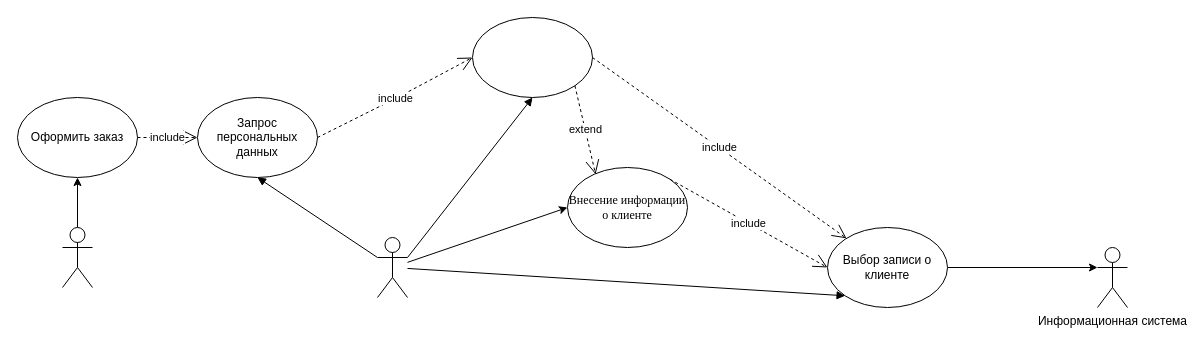
The diagram is 1204 pixels wide and 346 high, and some of its shapes have lost their labels. Here are the shapes that lost their labels. From the top down, the centre of each, then its label:
At point 532,57: "Проверка наличия данных".
At point 77,257: "Клиент".
At point 392,267: "Сотрудник".
